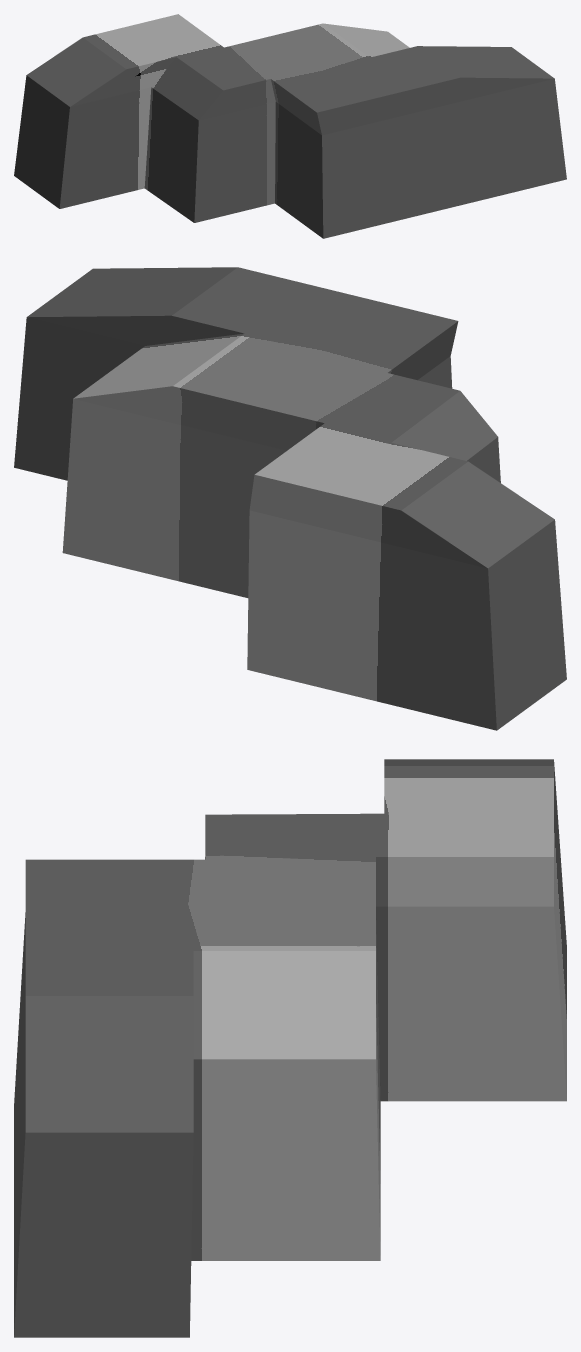
File: stone_chips_815x02.gltf
3 renders of one model, top to bottom at view 1: azimuth 30°, elevation 25°; view 2: azimuth 150°, elevation 25°; view 3: azimuth 270°, elevation 25°, orthographic. The views are drawn at different scales.
Visible parts, largest first — view 1: stone_chips_815x02; view 2: stone_chips_815x02; view 3: stone_chips_815x02.
Part boxes in pixels (x1,y1,x2,y2): stone_chips_815x02: (14, 14, 566, 238); stone_chips_815x02: (14, 267, 566, 730); stone_chips_815x02: (14, 759, 566, 1337).
Size of the model in its own units: 0.5794 by 0.1682 by 0.3466.
Materials: 1 (1 with a texture image).
